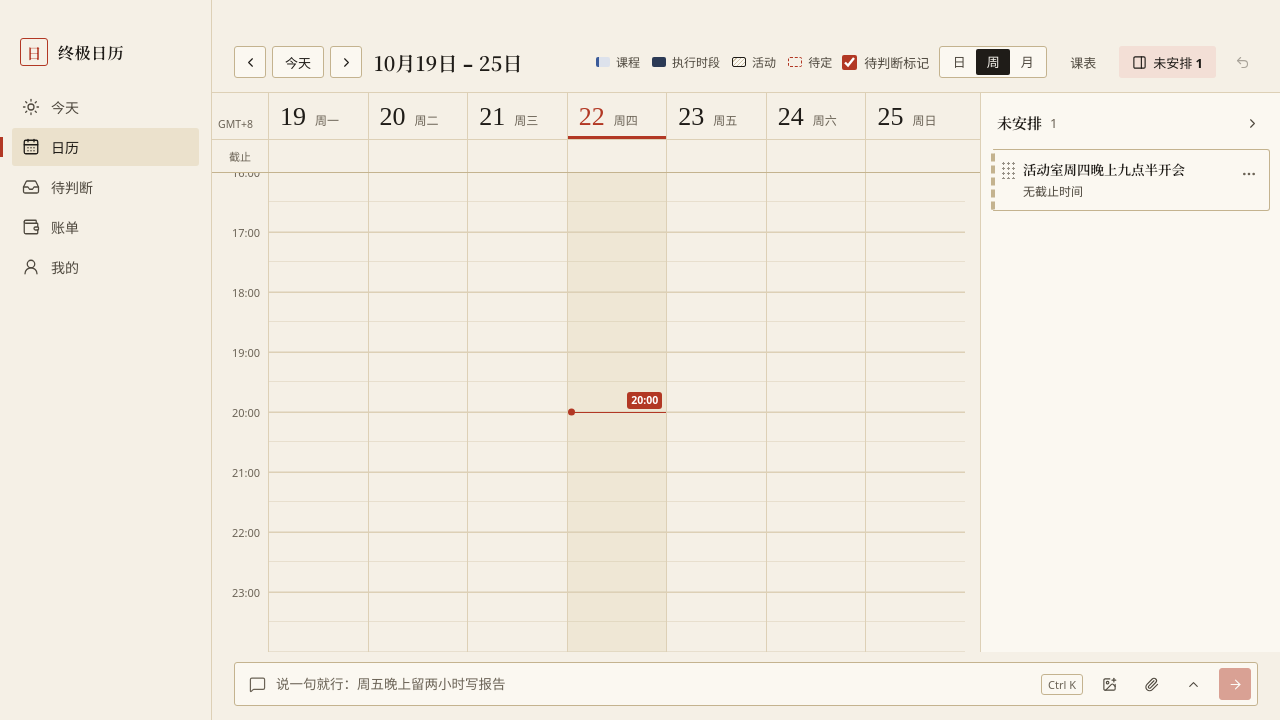
scheduling an accepted notice whose extracted activity time was lost › uses the same original time from the side rail and leaves records untouched when cancelled
(page scrolled)
Click the button named "的更多操作": click(1249, 174) [1235,160,1263,188]
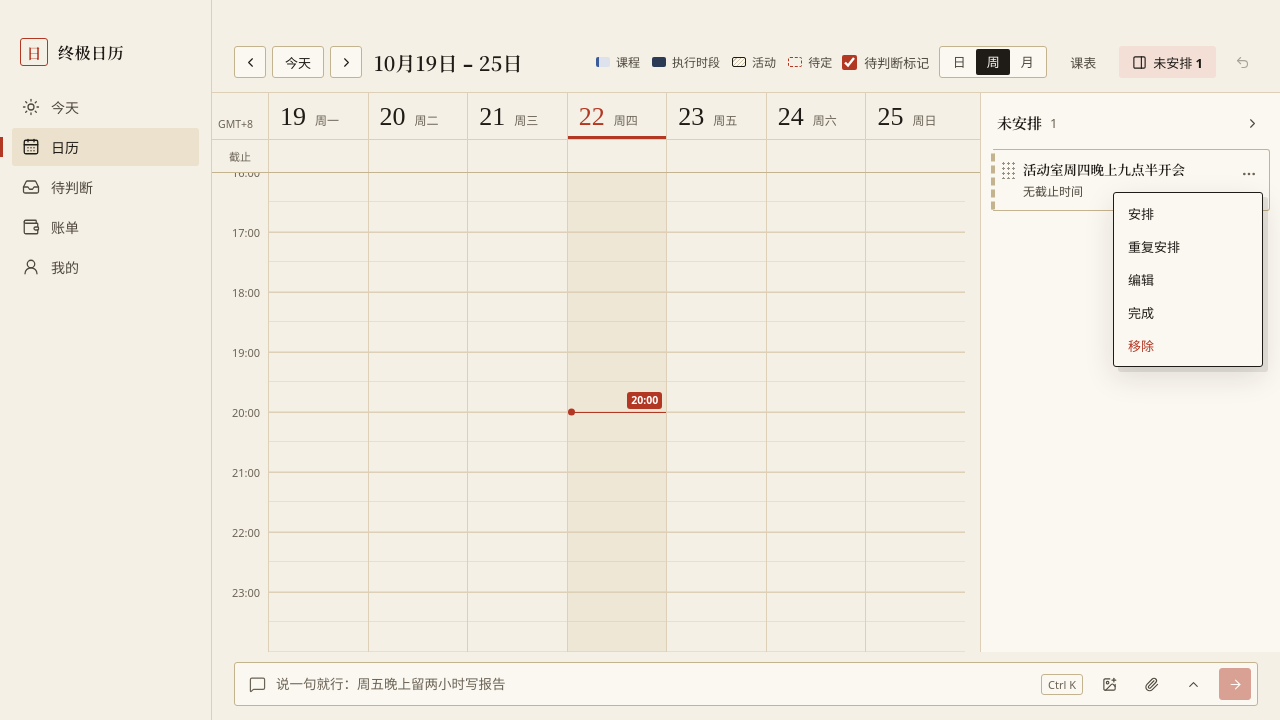
Click the menu item "安排": click(1188, 214) [1118,197,1258,230]
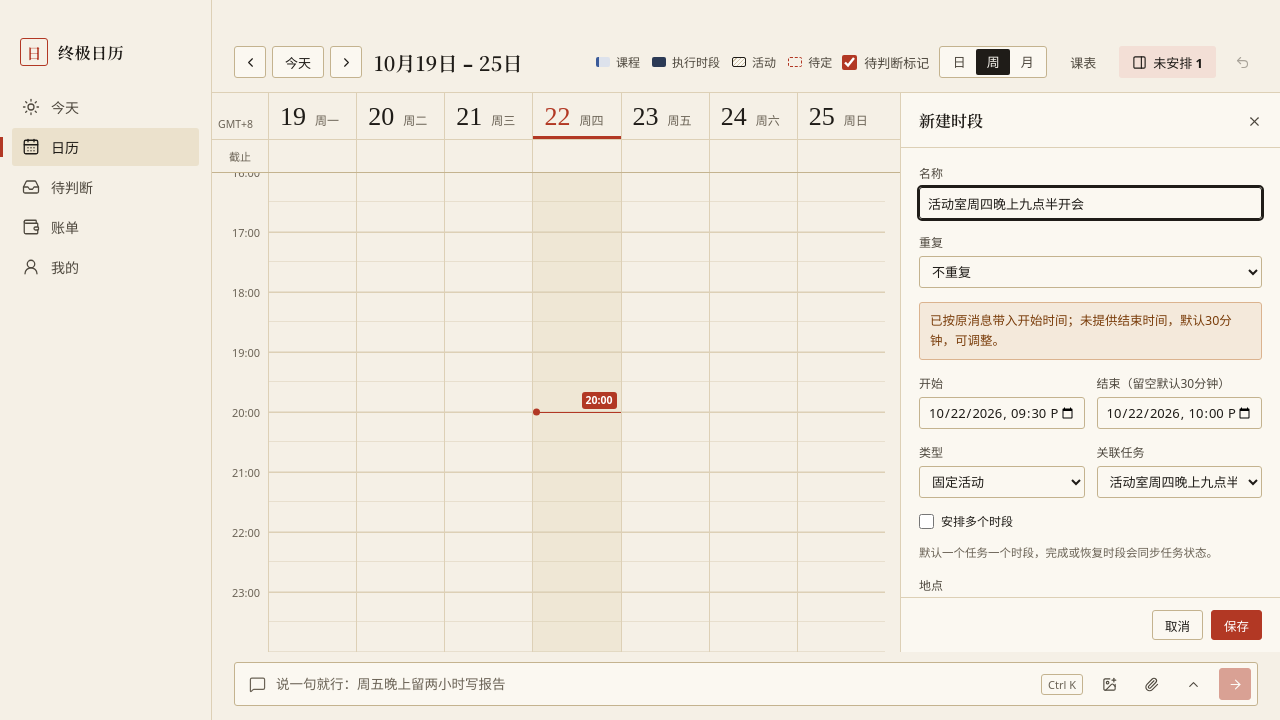
Check: the field labelled "开始" holds "2026-10-22T21:30", box [919,397,1084,429]
Check: the field labelled "结束（留空默认30分钟）" holds "2026-10-22T22:00", box [1096,397,1262,429]
Click the button "取消": click(1178, 625) [1152,610,1203,640]
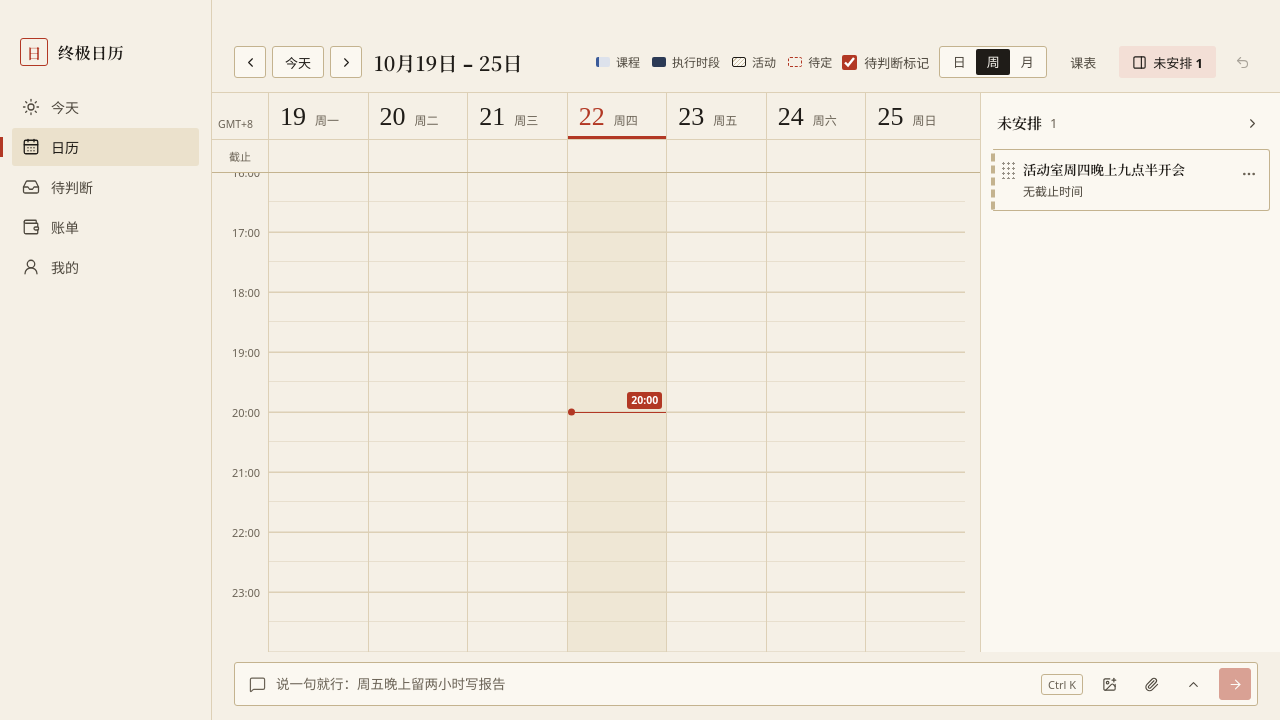
Check: the dialog is gone
